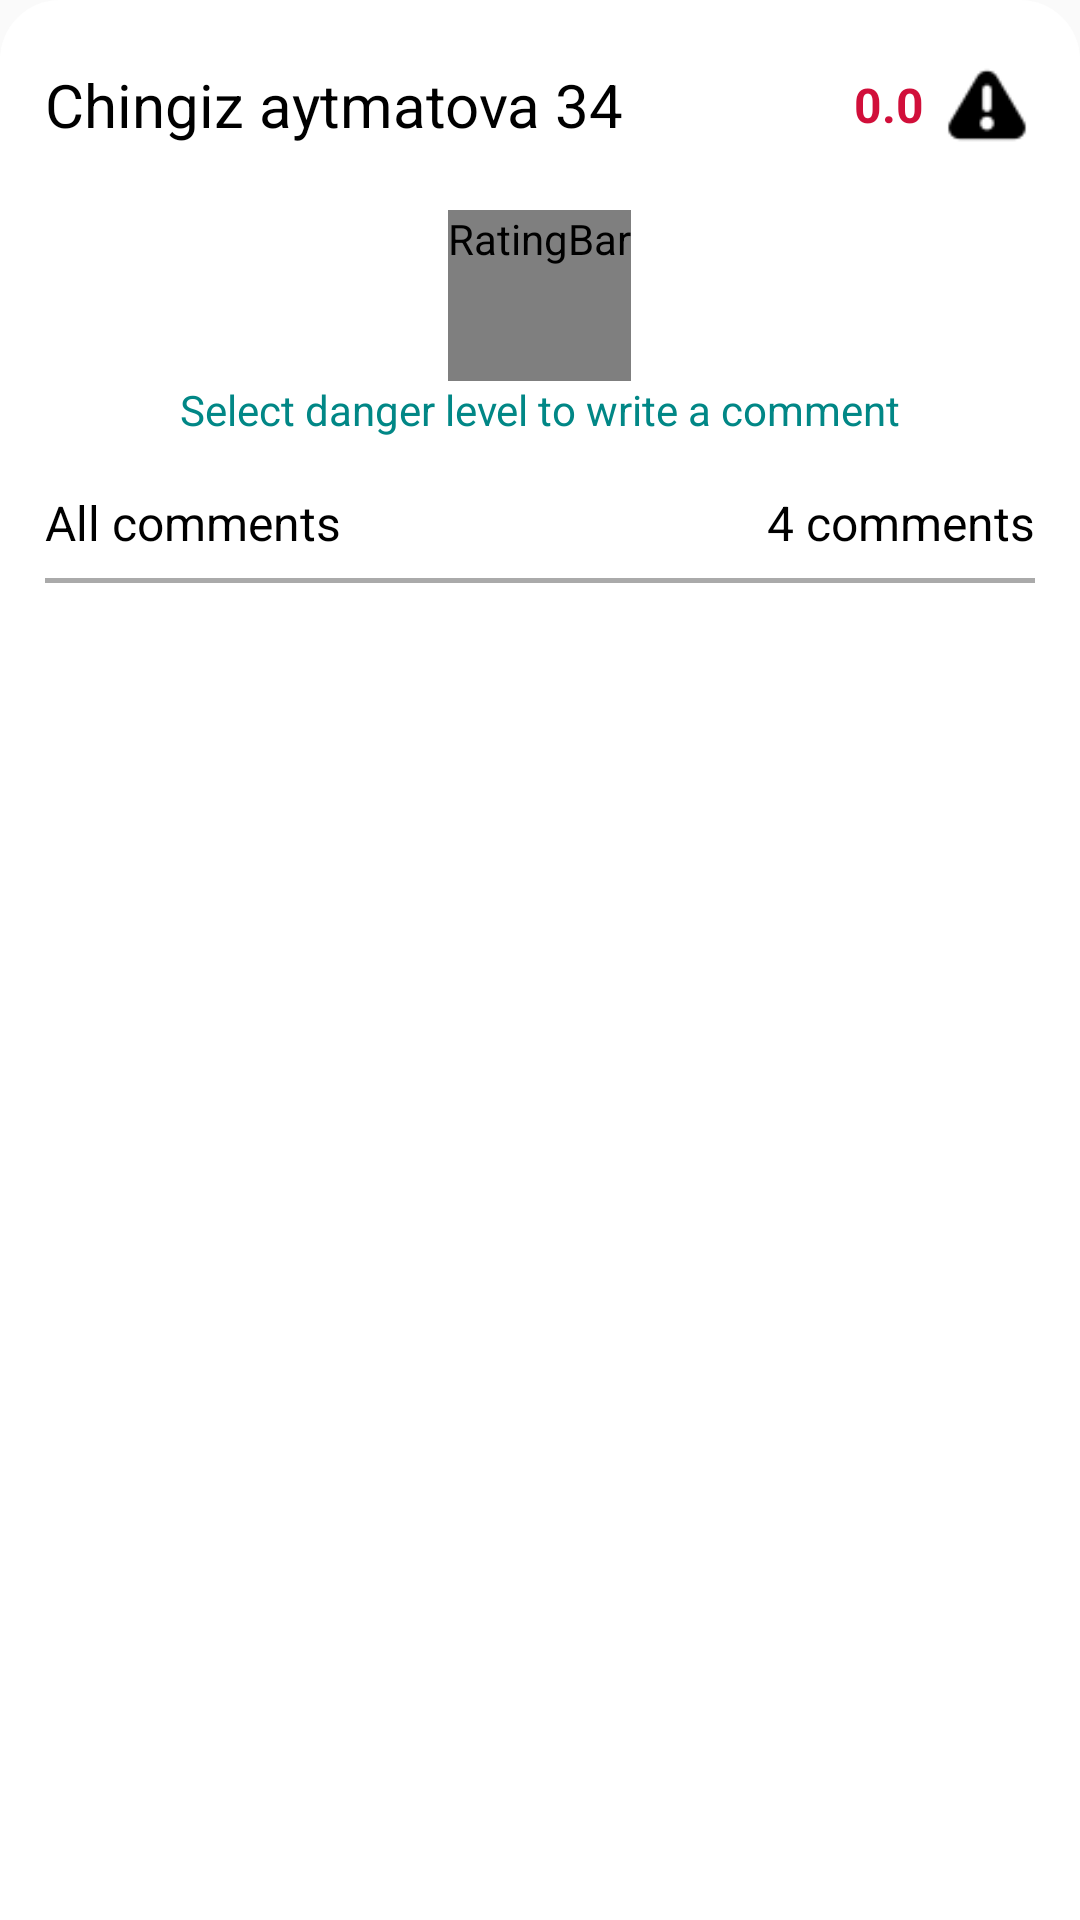

Screen size 1080 x 1920. Icon name, then its box in pixels as [x1=x1, y1=y1, x2=x2, y2=y2]:
danger on: [x1=948, y1=70, x2=1026, y2=141]
